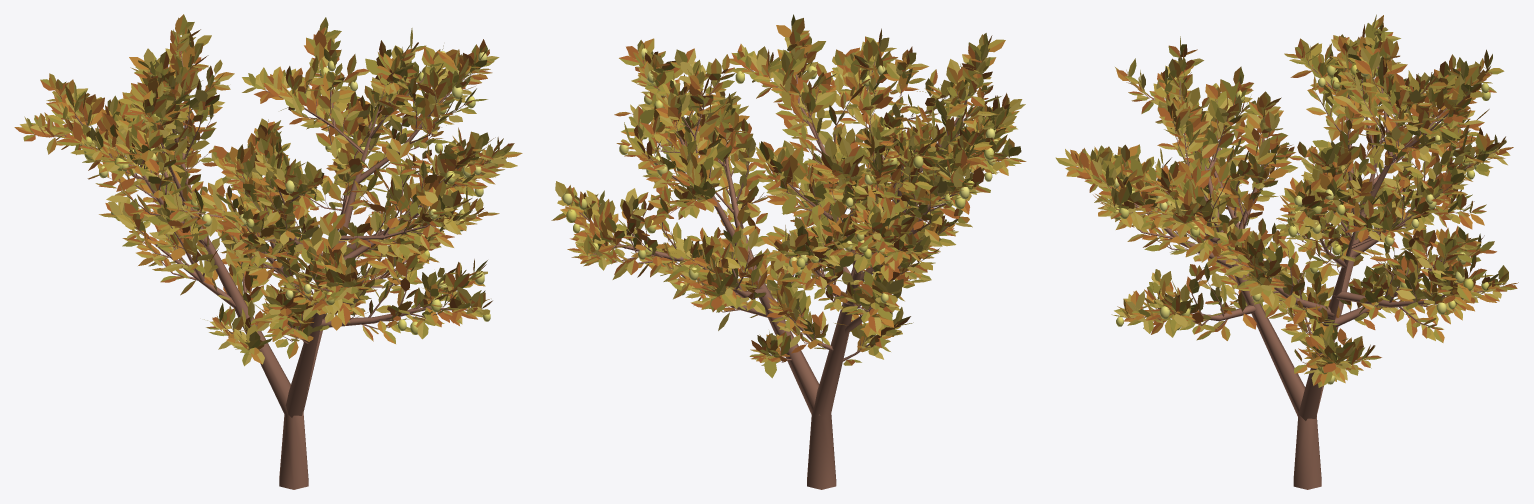
The model's file is prunier_reine_automne.glb.
3 renders of one model, left to right at view 1: azimuth 30°, elevation 25°; view 2: azimuth 150°, elevation 25°; view 3: azimuth 270°, elevation 25°, orthographic. The views are drawn at different scales.
Visible parts, largest first — view 1: Prunier_Feuillage, Prunier_Tronc, Prunier_Prunes; view 2: Prunier_Feuillage, Prunier_Tronc, Prunier_Prunes; view 3: Prunier_Feuillage, Prunier_Tronc, Prunier_Prunes.
Part boxes in pixels (x1,y1,x2,y2): Prunier_Feuillage: (14, 14, 522, 366); Prunier_Tronc: (33, 44, 490, 489); Prunier_Prunes: (80, 51, 492, 334); Prunier_Feuillage: (551, 14, 1026, 378); Prunier_Tronc: (571, 52, 1009, 489); Prunier_Prunes: (562, 48, 998, 303); Prunier_Feuillage: (1055, 14, 1518, 387); Prunier_Tronc: (1076, 56, 1503, 489); Prunier_Prunes: (1114, 40, 1490, 384).
Size of the model in its own units: 3.83 by 3.94 by 3.97.
